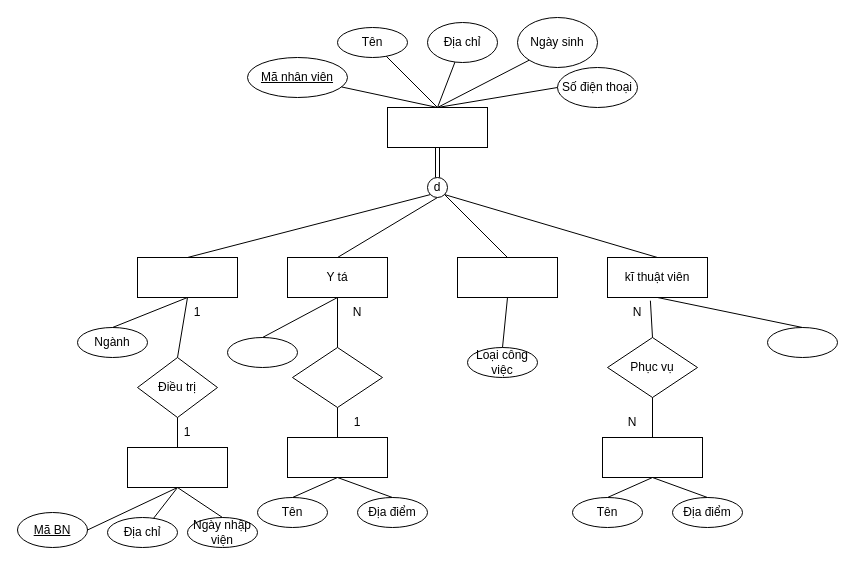
Some shapes in this 855 by 565 pixel diagram are drawn without their labels. Each missing label, with the box of its shape:
Bệnh nhân: (126, 446, 228, 488)
Khu điều trị: (286, 436, 388, 478)
kỹ năng: (766, 326, 838, 358)
Mã số chứng chỉ: (226, 336, 298, 368)
Nhân viên: (386, 106, 488, 148)
nhân viên văn phòng: (456, 256, 558, 298)
Phân công: (292, 346, 382, 408)
Phòng thí nghiệm: (602, 436, 702, 478)
Y sĩ: (136, 256, 238, 298)
